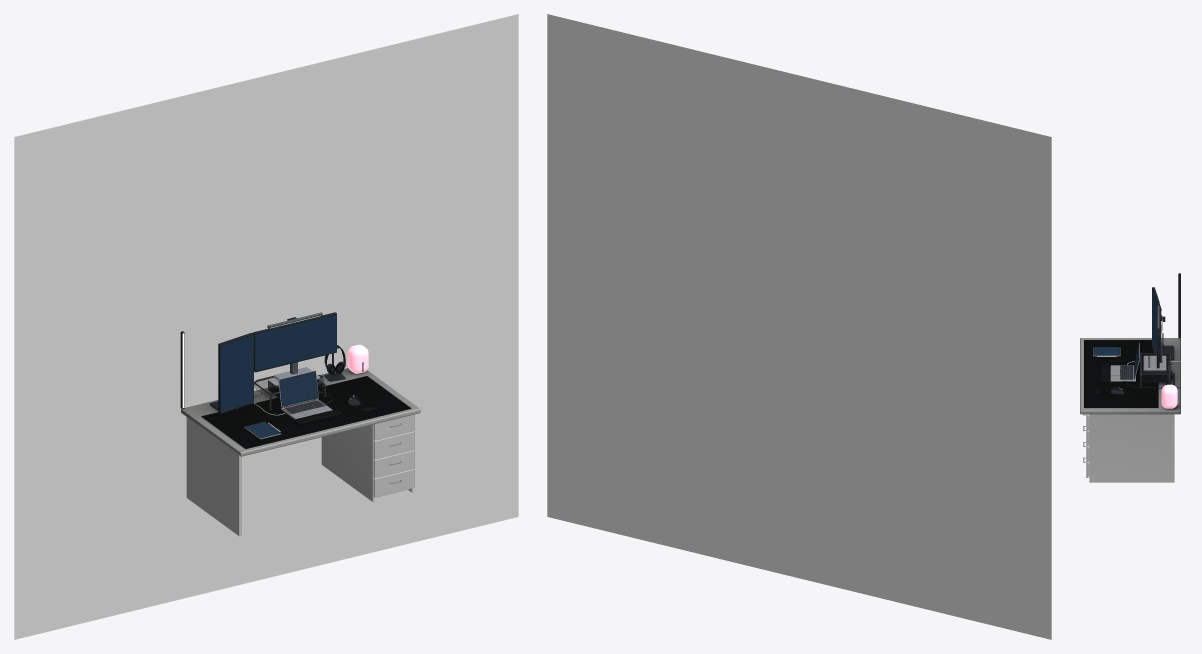
Rendered from onur-desk.glb.
3 views of the same model, side by side, from view 1: azimuth 30°, elevation 25°; view 2: azimuth 150°, elevation 25°; view 3: azimuth 270°, elevation 25° (orthographic). The views are drawn at different scales.
Visible parts, largest first — view 1: Batch backdrop Flat black backdrop, Batch static Warm white laminate, Batch static Inactive screen glass, Batch static Neutral Desk mat, Batch static Neutral Desk extended rear margin, Batch static Graphite polymer, Batch drawer2 Warm white laminate, Batch drawer3 Warm white laminate, Batch drawer4 Warm white laminate, Batch drawer1 Warm white laminate; view 2: Batch backdrop Flat black backdrop; view 3: Batch static Warm white laminate, Batch static Neutral Desk mat, Batch static Neutral Desk extended rear margin, Batch static Graphite polymer, Batch static Space grey aluminium, Batch static Expanded steel mesh, Batch static Woven black textile, Batch lamp Rose opal diffuser, Batch static Inactive screen glass, Batch static Satin black metal, Batch tablet Inactive screen glass, Batch static Anodised aluminium.
Boxes of the visible parts, box(x1,y1,x2,y2) form: Batch backdrop Flat black backdrop: box(14, 14, 518, 639); Batch static Warm white laminate: box(186, 403, 413, 536); Batch static Inactive screen glass: box(221, 314, 336, 412); Batch static Neutral Desk mat: box(201, 376, 410, 448); Batch static Neutral Desk extended rear margin: box(181, 368, 420, 456); Batch static Graphite polymer: box(180, 312, 345, 413); Batch drawer2 Warm white laminate: box(373, 431, 414, 459); Batch drawer3 Warm white laminate: box(373, 450, 414, 478); Batch drawer4 Warm white laminate: box(373, 469, 414, 497); Batch drawer1 Warm white laminate: box(373, 414, 414, 440); Batch backdrop Flat black backdrop: box(547, 14, 1051, 639); Batch static Warm white laminate: box(1089, 361, 1180, 482); Batch static Neutral Desk mat: box(1084, 340, 1158, 407); Batch static Neutral Desk extended rear margin: box(1080, 338, 1180, 414); Batch static Graphite polymer: box(1120, 273, 1180, 388); Batch static Space grey aluminium: box(1110, 343, 1166, 381); Batch static Expanded steel mesh: box(1141, 353, 1169, 381); Batch static Woven black textile: box(1086, 340, 1154, 407); Batch lamp Rose opal diffuser: box(1161, 384, 1177, 408); Batch static Inactive screen glass: box(1134, 289, 1156, 377); Batch static Satin black metal: box(1140, 352, 1174, 385); Batch tablet Inactive screen glass: box(1094, 347, 1119, 355); Batch static Anodised aluminium: box(1110, 305, 1163, 378).
Bounding box in the file's own units: 4.2 × 4 × 0.93.
19 materials, 6 textured.
